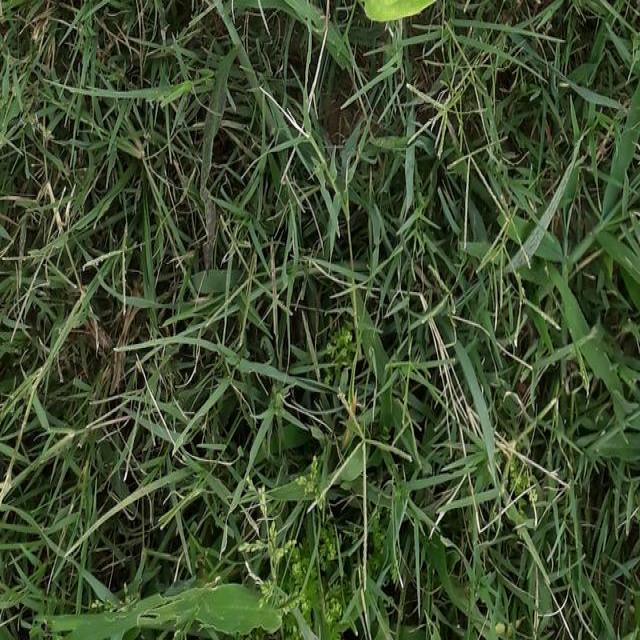weed: (11, 13, 416, 449), (450, 56, 640, 539), (26, 489, 336, 639)
